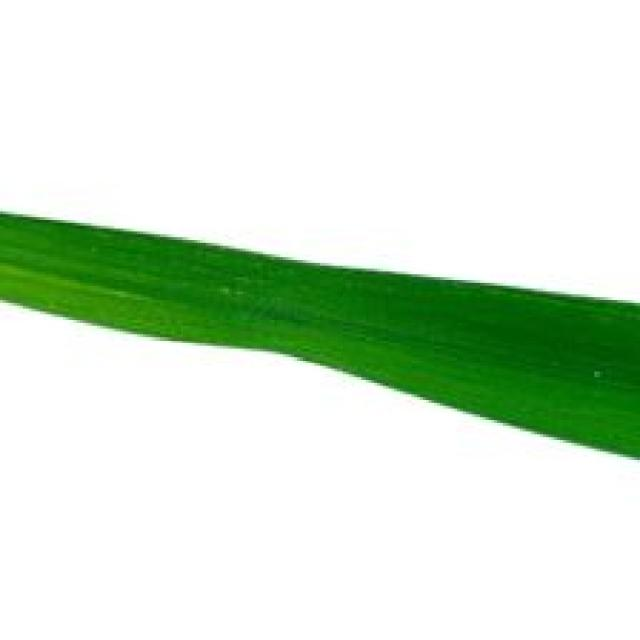Rice___Healthy_Rice_Plant: (0, 212, 637, 464)
